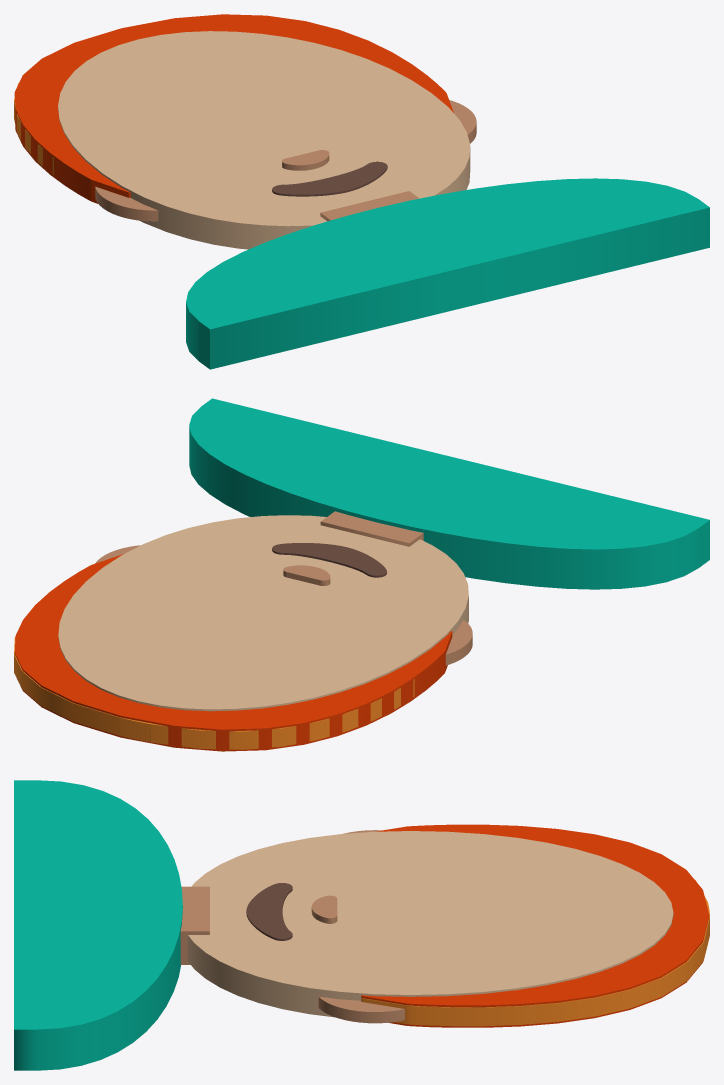
Rendered from emoji_u1f468_1f3fc_200d_1f9b0.glb.
The picture shows the model from 3 angles, top to bottom: view 1: azimuth 30°, elevation 25°; view 2: azimuth 150°, elevation 25°; view 3: azimuth 270°, elevation 25°; orthographic projection. The views are drawn at different scales.
Visible parts, largest first — view 1: emoji_u1f468_1f3fc_200d_1f9b0; view 2: emoji_u1f468_1f3fc_200d_1f9b0; view 3: emoji_u1f468_1f3fc_200d_1f9b0.
Part boxes in pixels (x1,y1,x2,y2): emoji_u1f468_1f3fc_200d_1f9b0: (14, 14, 709, 369); emoji_u1f468_1f3fc_200d_1f9b0: (14, 398, 709, 751); emoji_u1f468_1f3fc_200d_1f9b0: (14, 780, 709, 1070).
Size of the model in its own units: 0.0286 by 0.0022 by 0.0337.
